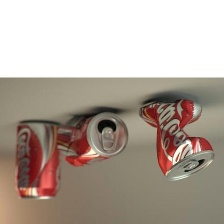can: (134, 93, 220, 187), (53, 103, 131, 177), (9, 118, 61, 203)
